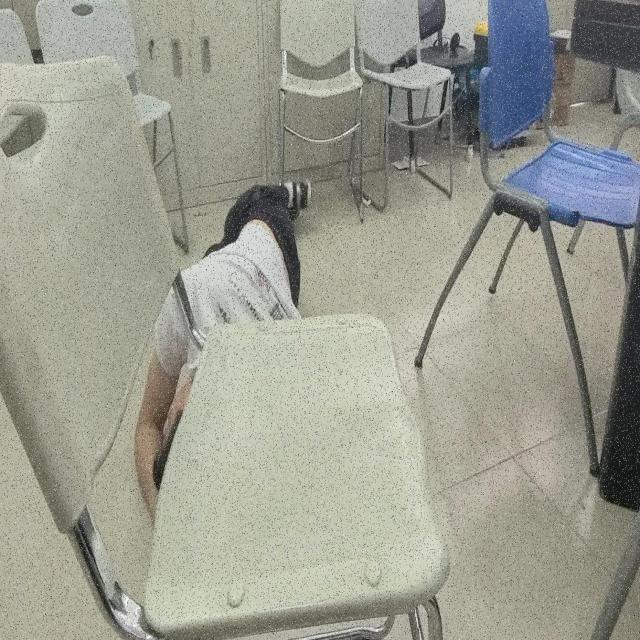fall: (133, 171, 313, 544)
